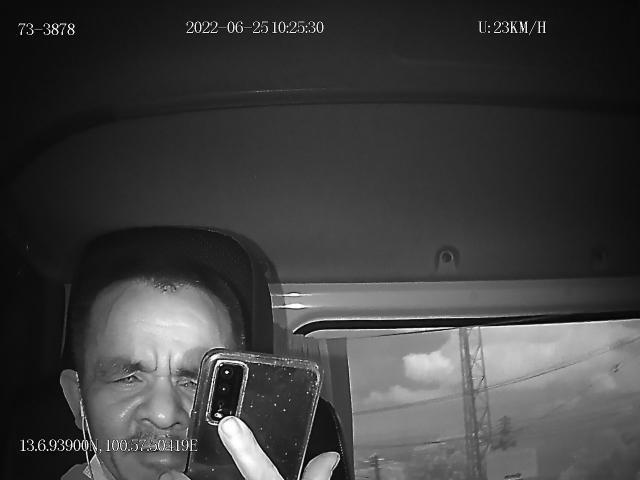PhoneUse: (186, 348, 324, 480)
SafeDriving: (100, 360, 150, 396), (170, 366, 202, 395)
